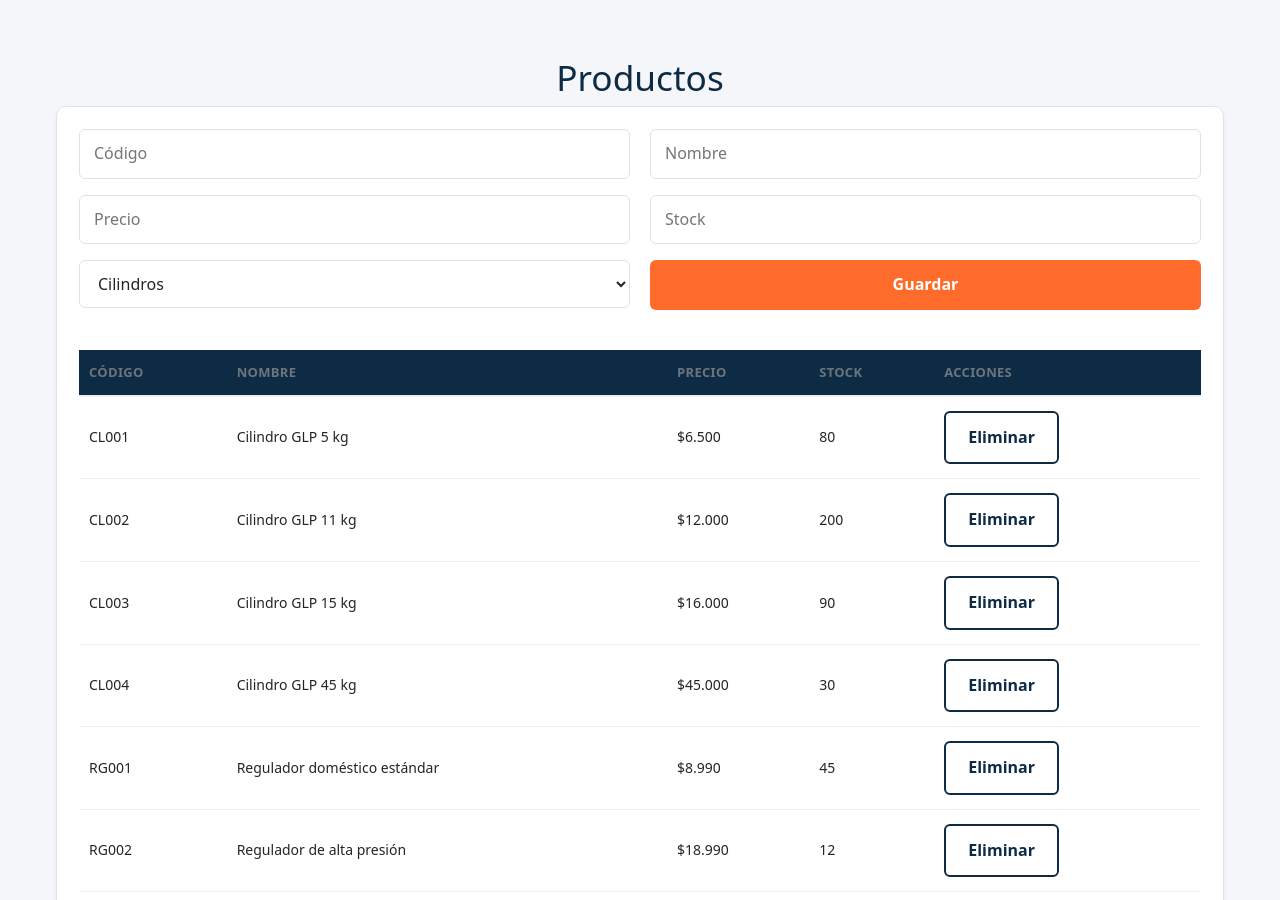
Test: CRUD de productos del administrador › deberia actualizar un producto existente si el codigo ya existe
Type "CL001" into the field with placeholder "Código". click: (354, 154)
box: top-left (79, 129), bottom-right (630, 179)
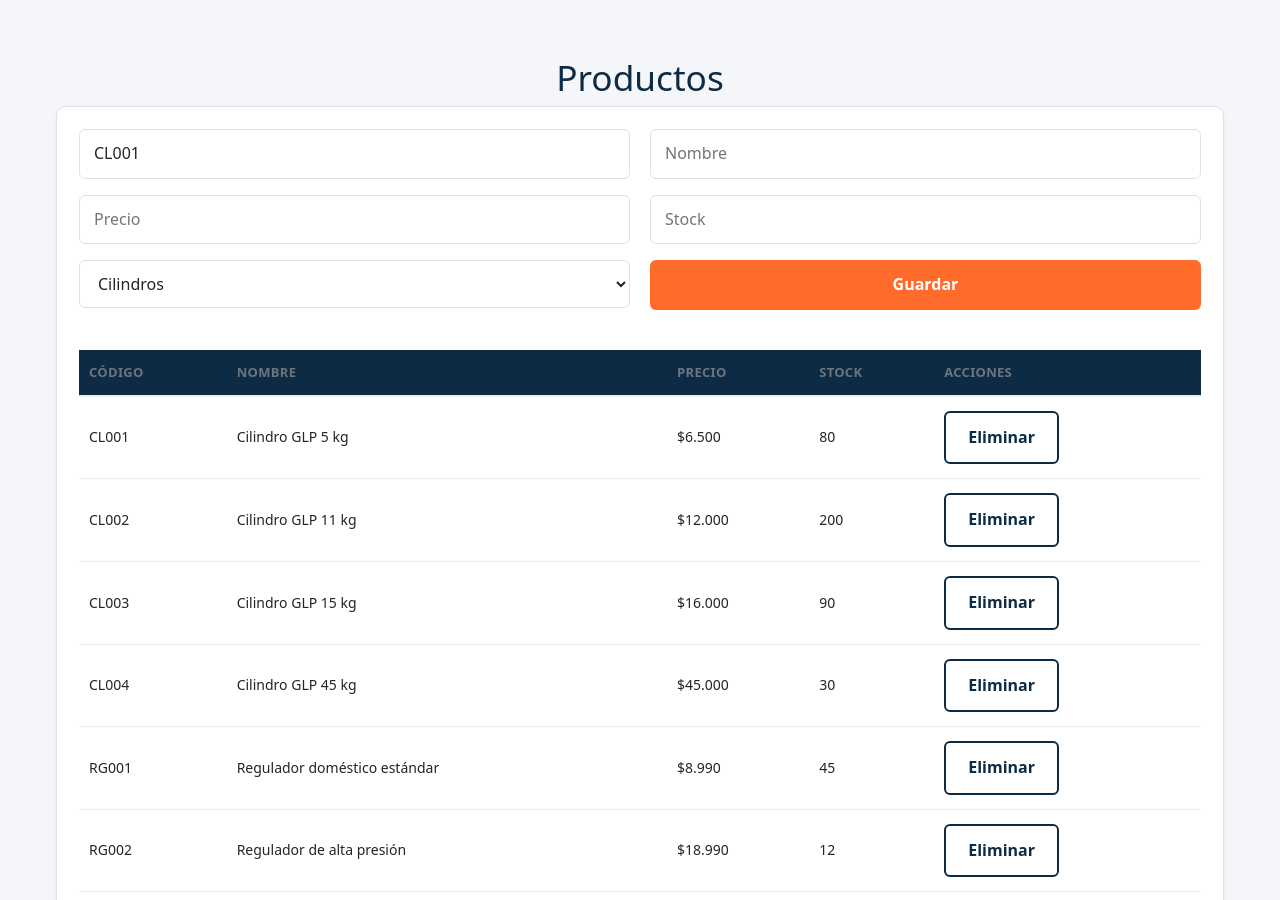
Type "Cilindro editado" into the field with placeholder "Nombre". click: (926, 154)
box: top-left (650, 129), bottom-right (1201, 179)
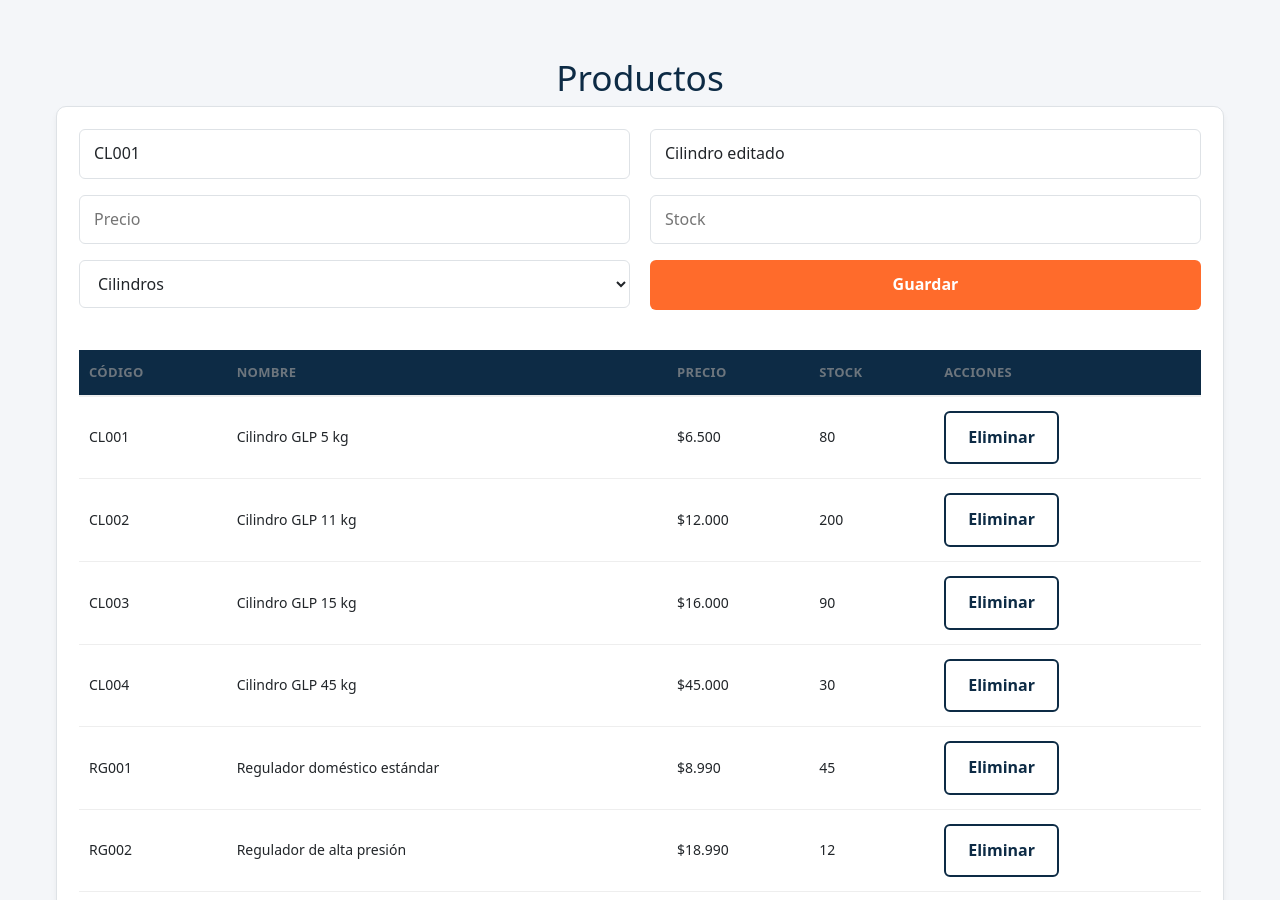
Type "7000" into the number field with placeholder "Precio". click: (354, 220)
box: top-left (79, 195), bottom-right (630, 244)
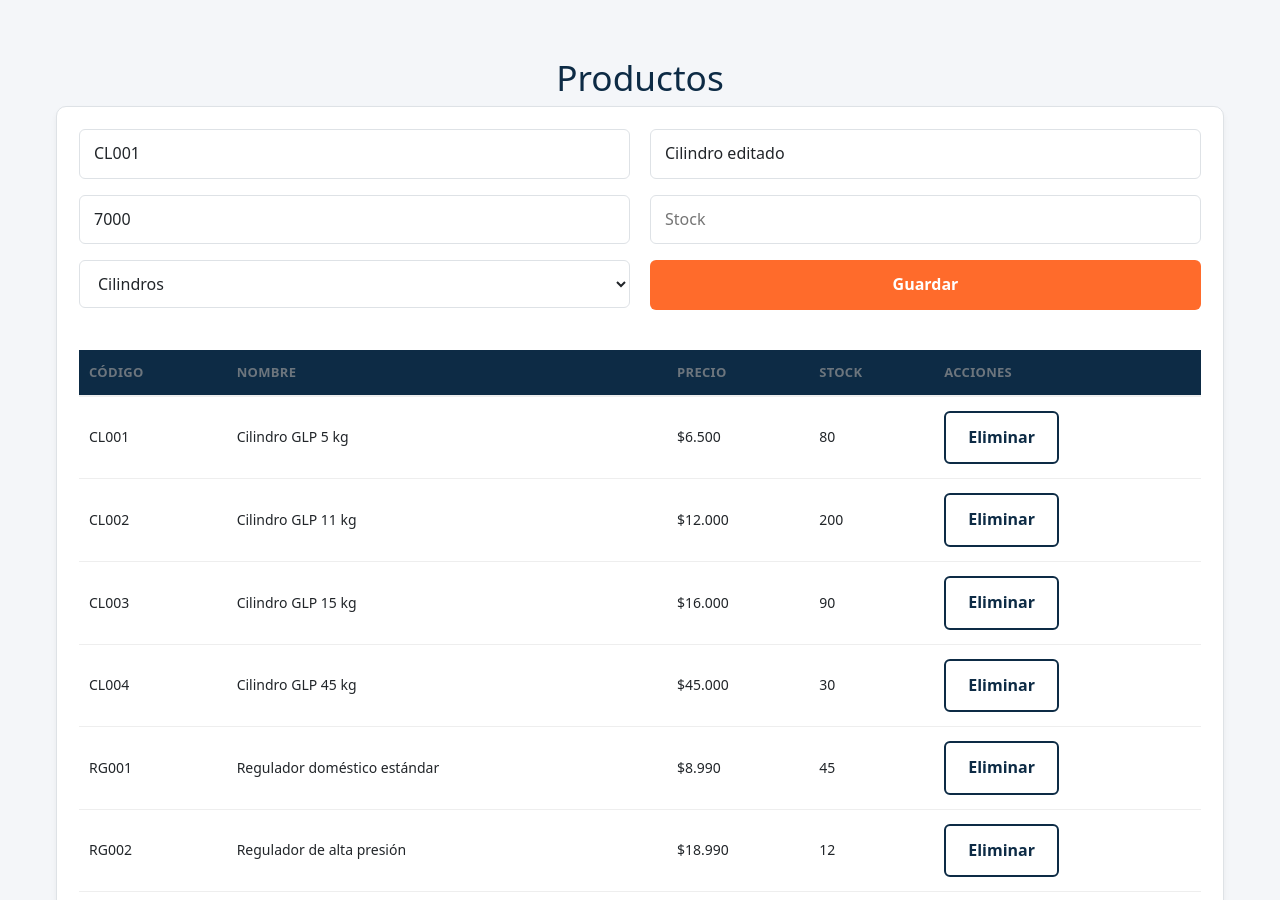
Type "10" into the number field with placeholder "Stock". click: (926, 220)
box: top-left (650, 195), bottom-right (1201, 244)
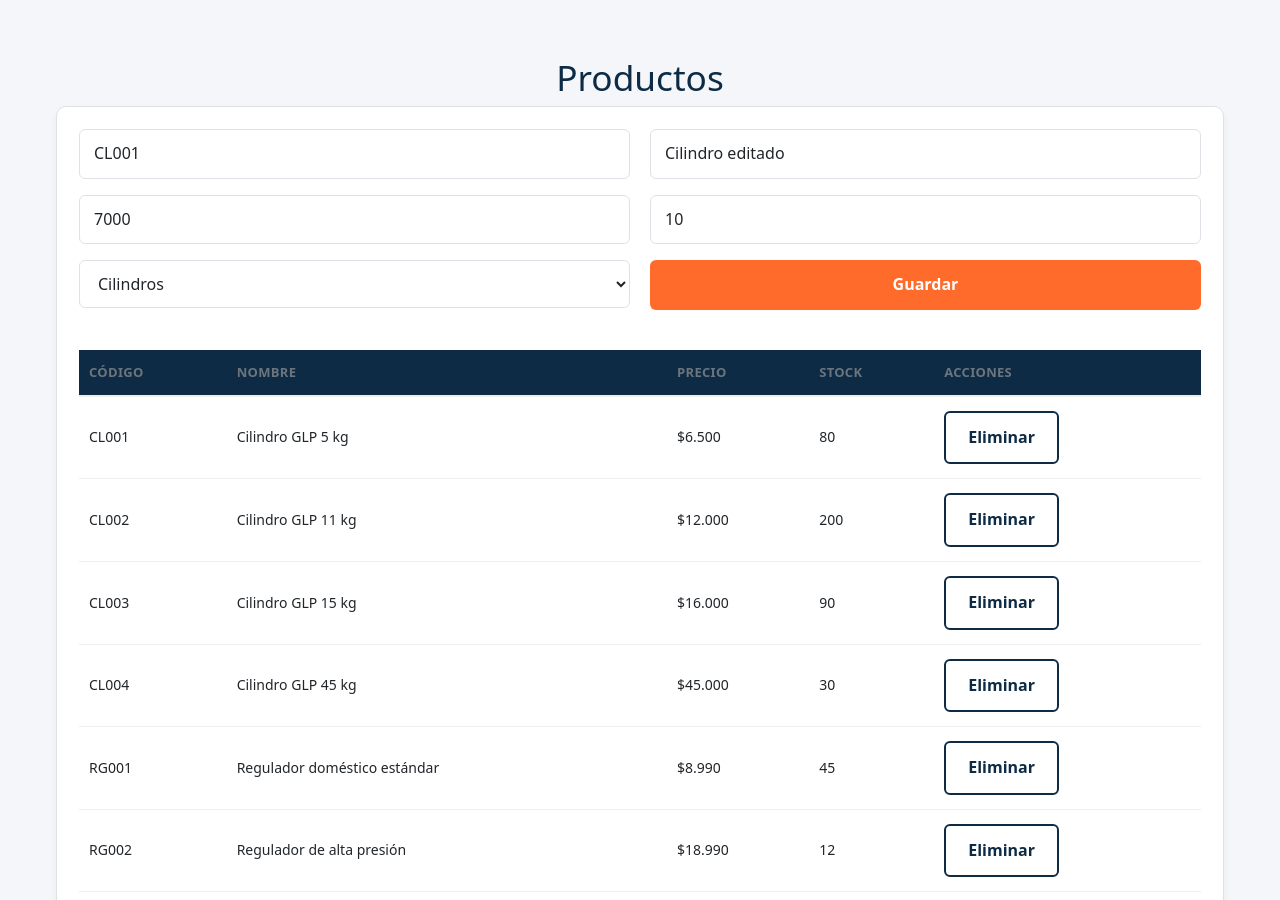
Click the button "Guardar". click: click(926, 285)
box: top-left (650, 260), bottom-right (1201, 310)
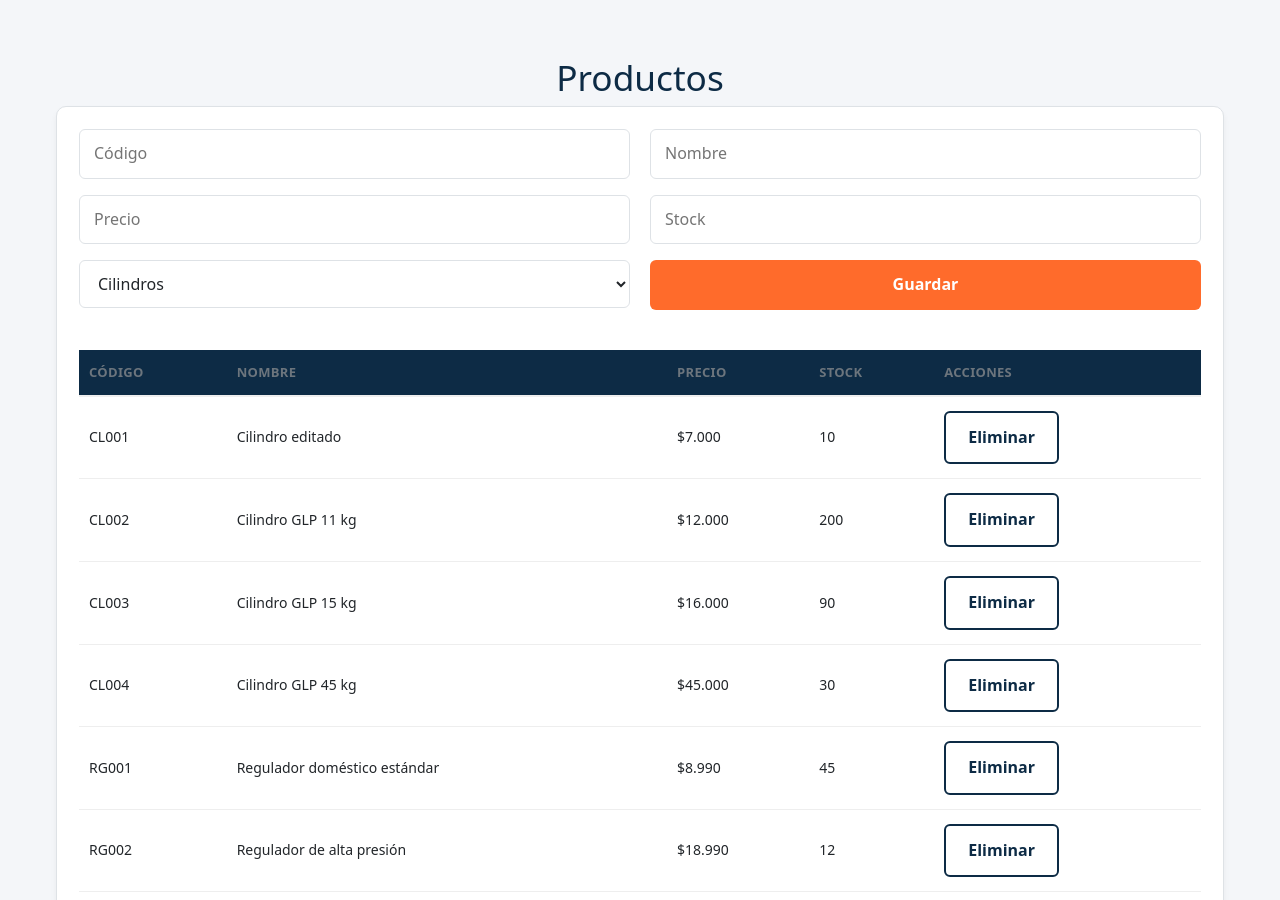
Expected: the text "Cilindro editado" is shown, top-left (227, 396), bottom-right (667, 479)
Expected: the text "Cilindro GLP 5 kg" is gone
